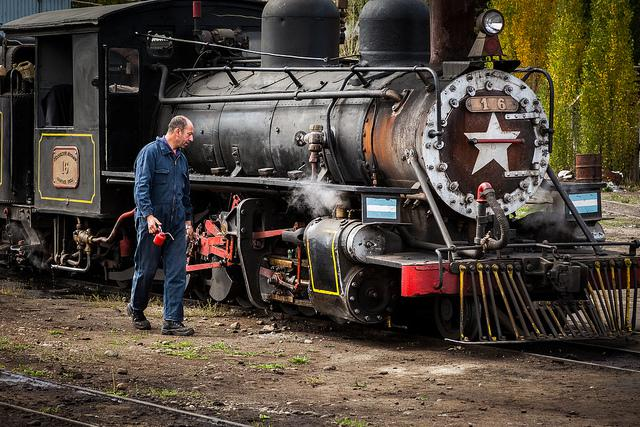Train: (0, 1, 640, 346)
